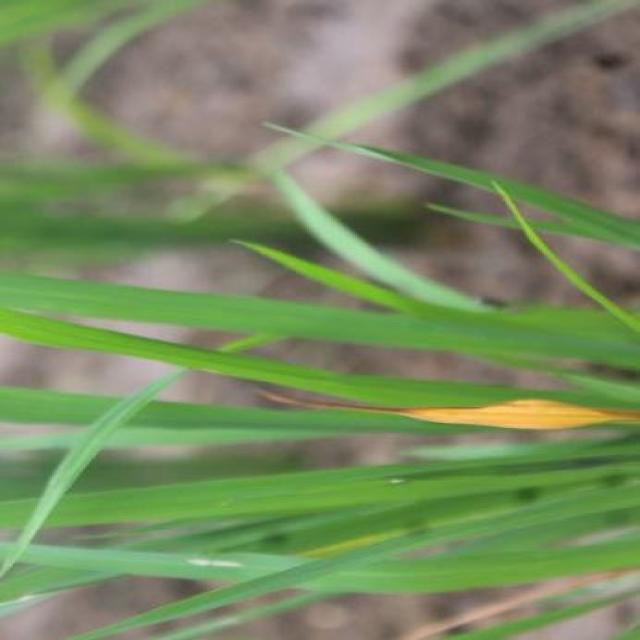Tungro: (379, 382, 640, 457)
